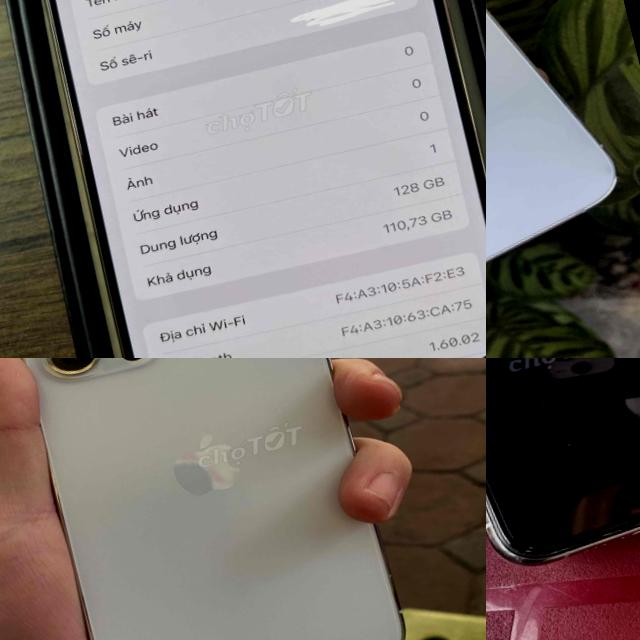gen_12_13: (0, 358, 429, 640)
gen_14: (486, 0, 639, 350)
gen_16: (43, 0, 486, 358)
gen_x_xs: (486, 358, 640, 563)
scratch: (505, 544, 535, 574), (598, 526, 622, 541)
